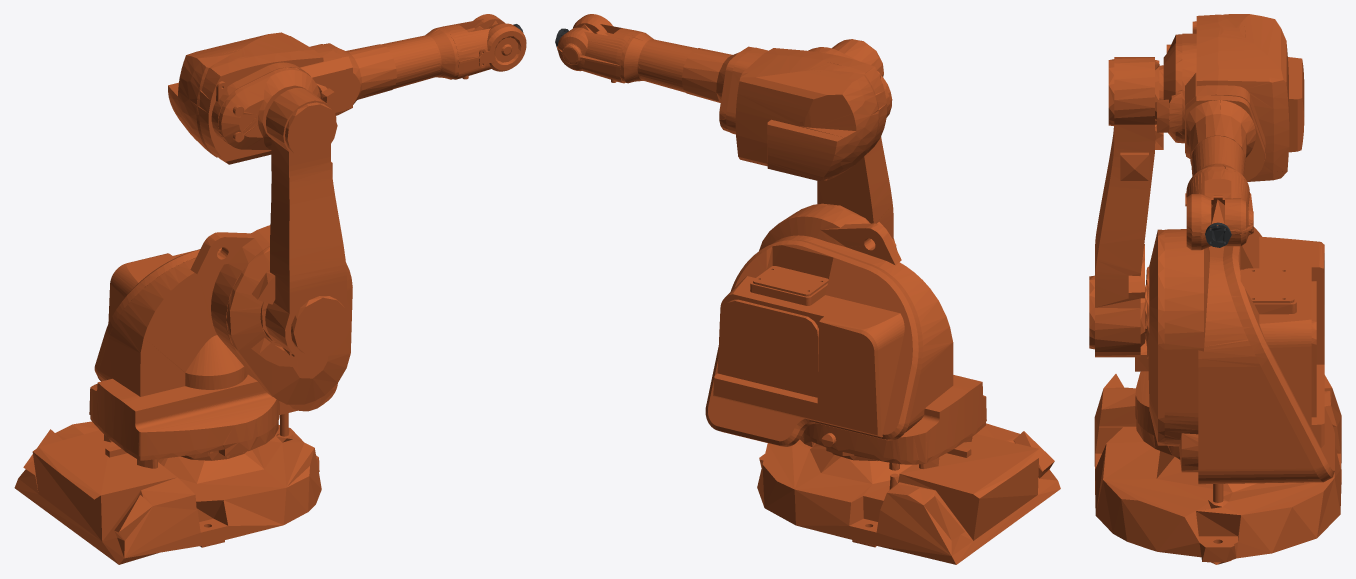
Rendered from abb_irb52_7_120_lite.dae.
3 renders of one model, left to right at view 1: azimuth 30°, elevation 25°; view 2: azimuth 150°, elevation 25°; view 3: azimuth 270°, elevation 25°, orthographic. The views are drawn at different scales.
Parts seen in each view (by area): view 1: link_1, base_link, link_2, link_3, link_4; view 2: link_1, base_link, link_3, link_4, link_2; view 3: link_1, base_link, link_3, link_2, link_4, link_6.
Part boxes in pixels (left/top/right/bottom): link_1: left=89, top=225, right=352, bottom=468; base_link: left=14, top=413, right=321, bottom=564; link_2: left=252, top=88, right=351, bottom=360; link_3: left=168, top=32, right=396, bottom=164; link_4: left=382, top=14, right=526, bottom=89; link_1: left=705, top=203, right=986, bottom=470; base_link: left=757, top=423, right=1060, bottom=564; link_3: left=682, top=46, right=892, bottom=181; link_4: left=557, top=14, right=696, bottom=92; link_2: left=817, top=39, right=897, bottom=250; link_1: left=1135, top=227, right=1334, bottom=484; base_link: left=1094, top=374, right=1341, bottom=564; link_3: left=1157, top=14, right=1304, bottom=181; link_2: left=1089, top=57, right=1163, bottom=357; link_4: left=1185, top=136, right=1253, bottom=250; link_6: left=1205, top=222, right=1231, bottom=247.
Bounding box in the file's own units: 1.2 × 0.4946 × 1.07.
